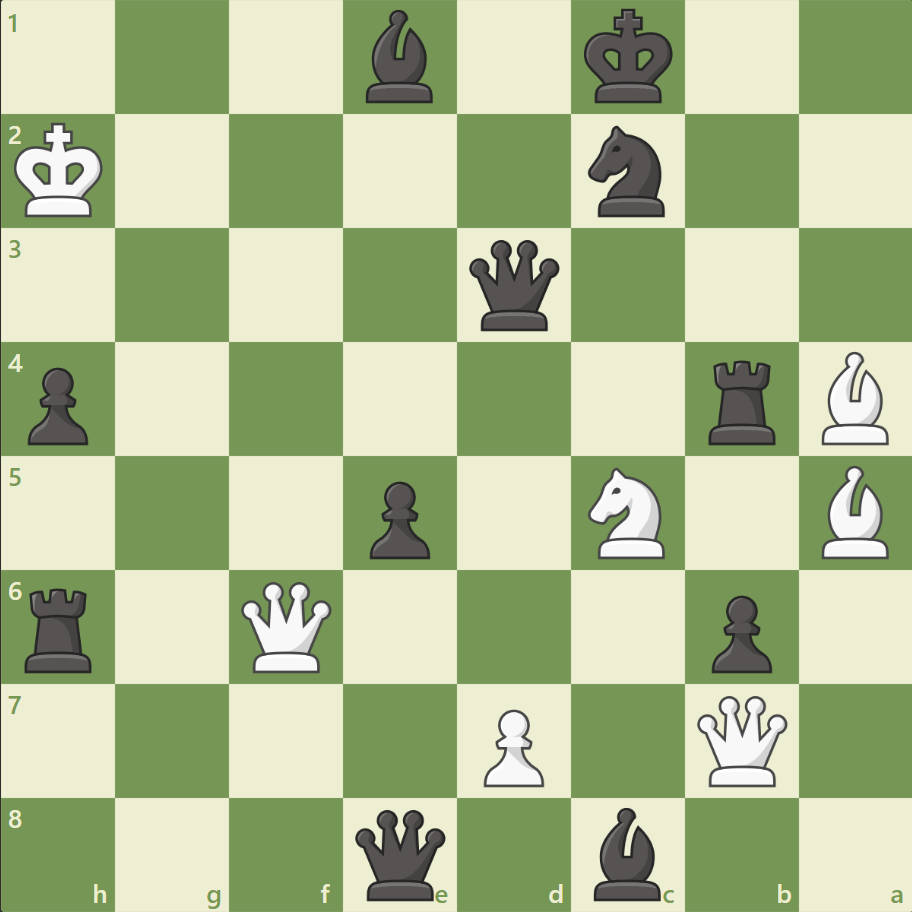B: (812, 460, 896, 563), (812, 347, 896, 449)
K: (11, 117, 111, 225)
N: (579, 461, 676, 564)
P: (474, 700, 549, 791)
Q: (237, 576, 336, 676), (691, 690, 790, 789)
b: (585, 801, 669, 904), (358, 6, 442, 109)
k: (579, 4, 679, 112)
n: (579, 121, 676, 223)
p: (701, 586, 776, 677), (20, 359, 95, 450), (361, 473, 435, 564)
q: (351, 804, 450, 903), (464, 236, 563, 335)
r: (19, 579, 102, 676), (700, 352, 783, 449)
